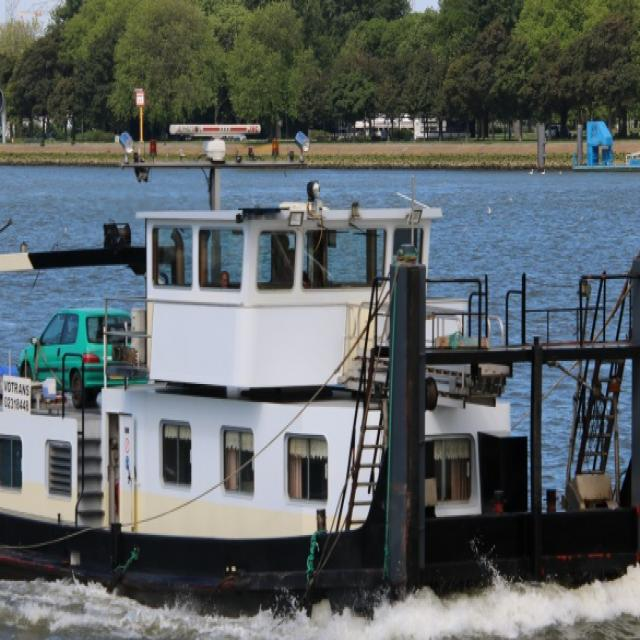tugboat: (1, 112, 640, 640)
